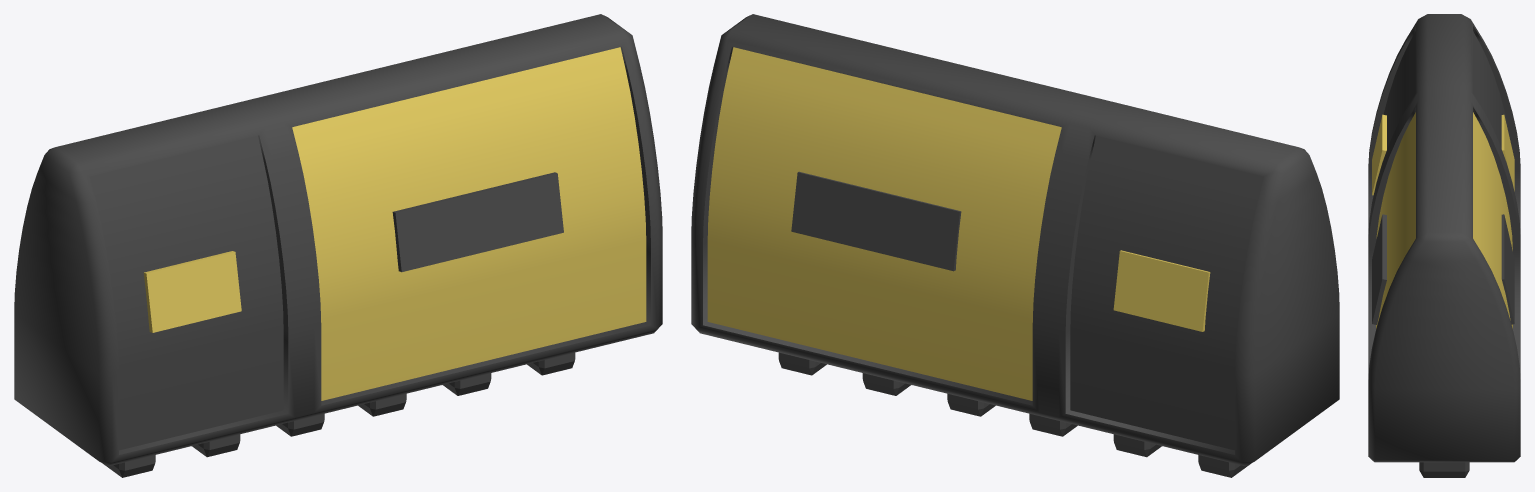
File: signal1.fbx
3 renders of one model, left to right at view 1: azimuth 30°, elevation 25°; view 2: azimuth 150°, elevation 25°; view 3: azimuth 270°, elevation 25°, orthographic. The views are drawn at different scales.
Parts seen in each view (by area): view 1: Cube.031, Cube.036; view 2: Cube.031, Cube.036; view 3: Cube.031, Cube.036.
Boxes of the visible parts, left/top/right/bottom form: Cube.031: left=14, top=14, right=662, bottom=466; Cube.036: left=103, top=352, right=575, bottom=477; Cube.031: left=691, top=14, right=1339, bottom=466; Cube.036: left=778, top=352, right=1250, bottom=477; Cube.031: left=1368, top=14, right=1520, bottom=462; Cube.036: left=1419, top=462, right=1469, bottom=477.
Bounding box in the file's own units: 127 × 69.87 × 36.24.
